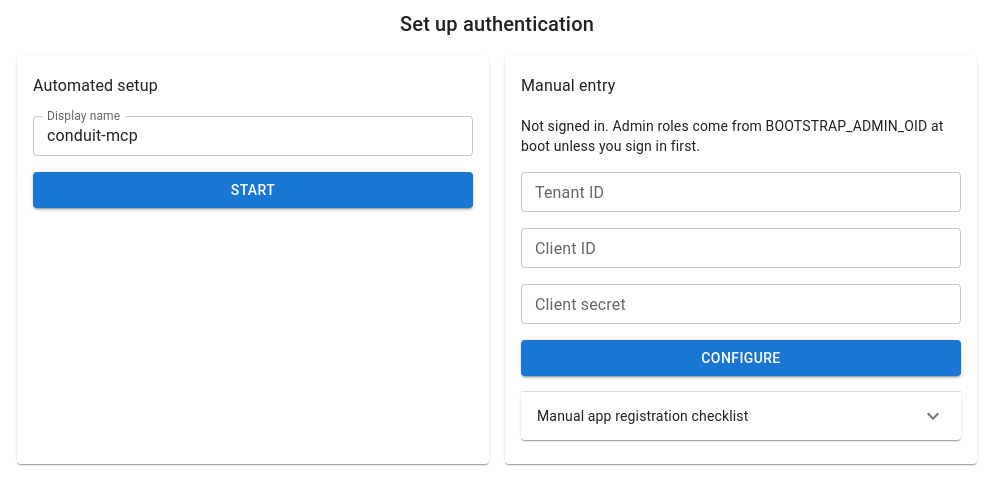
Test: SetupWizard › start flow: click start shows the user code and devicelogin link
What coordinates should you click on to do the following:
click the button "Start"
I would click on:
 (253, 190)
Its box is [33,172,473,208].
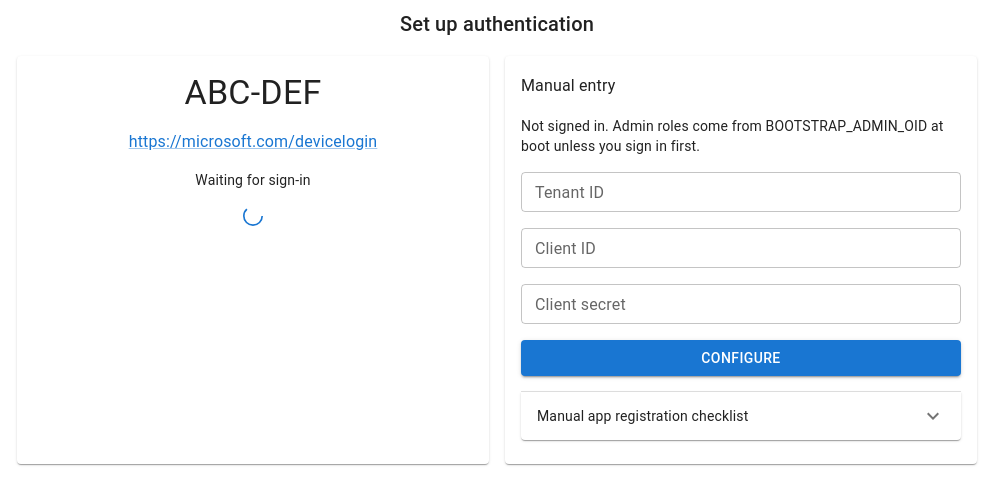
expect the heading "ABC-DEF" is shown: met, box [184,72,322,114]
expect the link "https://microsoft.com/devicelogin" is shown: met, box [129,130,377,154]
expect the text "Waiting for sign-in" is shown: met, box [195,170,311,190]
